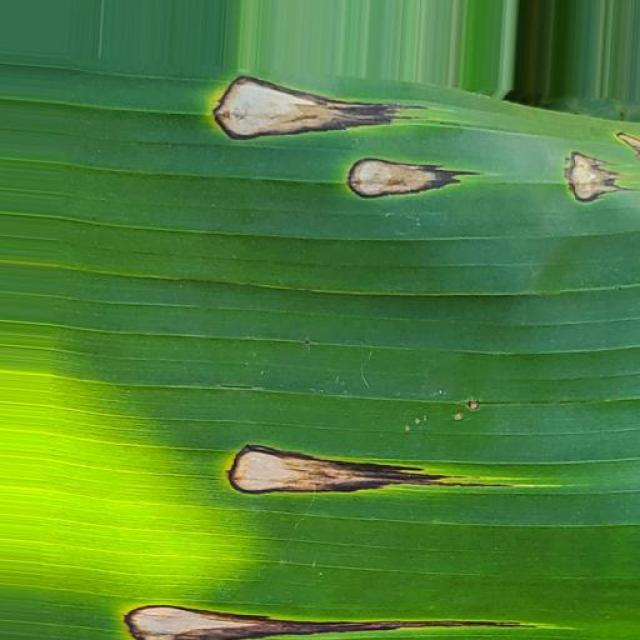Early_rust: (206, 43, 483, 218), (205, 416, 535, 524), (109, 586, 538, 640), (550, 129, 640, 220)
